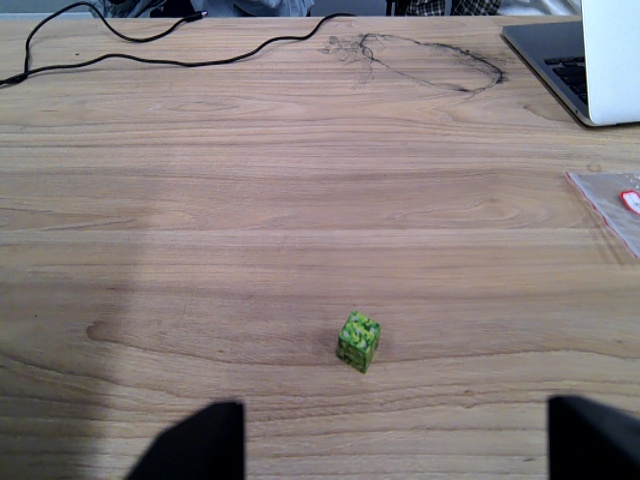grass: (334, 309, 382, 376)
